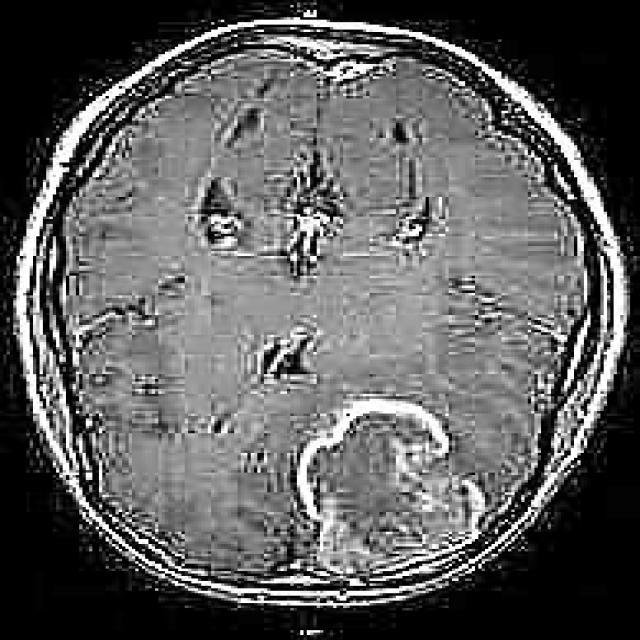Tumor: (294, 401, 488, 574)
